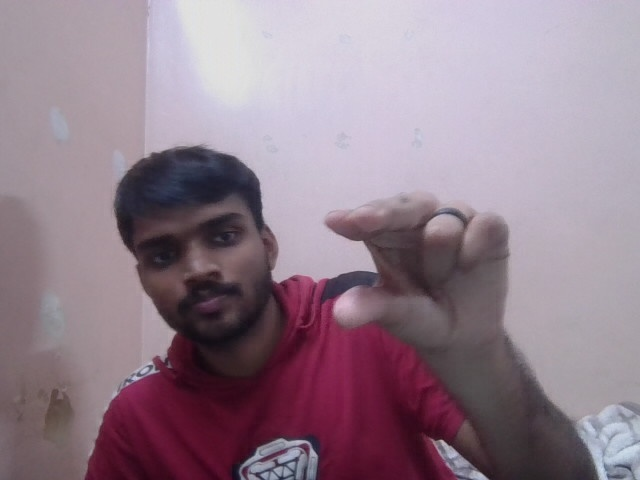No: (330, 180, 521, 342)
